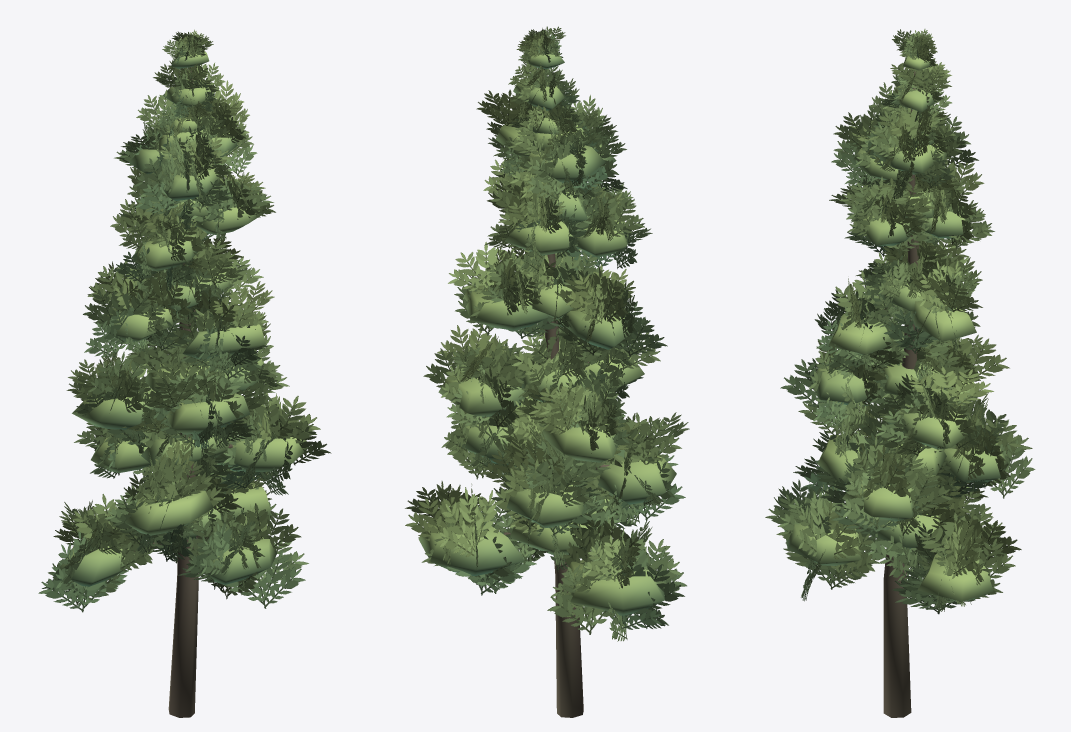
The model's file is station-cedar.glb.
3 views of the same model, side by side, from view 1: azimuth 30°, elevation 25°; view 2: azimuth 150°, elevation 25°; view 3: azimuth 270°, elevation 25° (orthographic). The views are drawn at different scales.
Visible parts, largest first — view 1: cedar-needle-sprays, cedar-canopy-planes, cedar-boughs; view 2: cedar-needle-sprays, cedar-canopy-planes, cedar-boughs; view 3: cedar-needle-sprays, cedar-canopy-planes, cedar-boughs.
Part boxes in pixels (left/top/right/bottom): cedar-needle-sprays: left=38, top=29, right=331, bottom=612; cedar-canopy-planes: left=53, top=50, right=308, bottom=586; cedar-boughs: left=134, top=67, right=232, bottom=717; cedar-needle-sprays: left=405, top=26, right=689, bottom=641; cedar-canopy-planes: left=418, top=52, right=676, bottom=615; cedar-boughs: left=504, top=253, right=609, bottom=717; cedar-needle-sprays: left=765, top=29, right=1035, bottom=614; cedar-canopy-planes: left=784, top=53, right=1011, bottom=601; cedar-boughs: left=854, top=71, right=931, bottom=717.
Size of the model in its own units: 3.98 by 9.02 by 3.66.
Materials: 2 (1 with a texture image).
